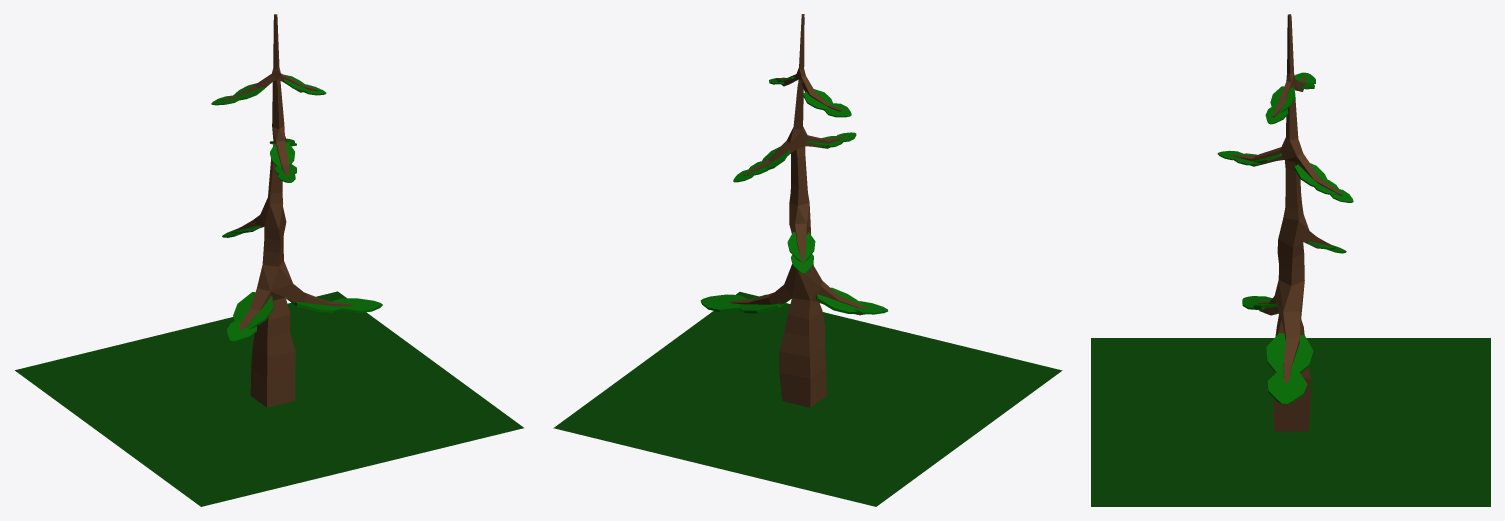
The model's file is PineTree_v1.fbx.
The picture shows the model from 3 angles, left to right: view 1: azimuth 30°, elevation 25°; view 2: azimuth 150°, elevation 25°; view 3: azimuth 270°, elevation 25°; orthographic projection. The views are drawn at different scales.
Visible parts, largest first — view 1: Plane, Trunk, Cylinder.015; view 2: Plane, Trunk, Cylinder.015; view 3: Plane, Trunk, Cylinder.015.
Part boxes in pixels (bbox=[...]): Plane: bbox=[15, 291, 523, 506]; Trunk: bbox=[222, 14, 352, 407]; Cylinder.015: bbox=[211, 74, 382, 341]; Plane: bbox=[553, 292, 1062, 506]; Trunk: bbox=[729, 14, 868, 407]; Cylinder.015: bbox=[700, 76, 887, 314]; Plane: bbox=[1091, 338, 1490, 506]; Trunk: bbox=[1232, 14, 1342, 431]; Cylinder.015: bbox=[1217, 72, 1353, 404].
Bounding box in the file's own units: 682 × 773 × 682.
